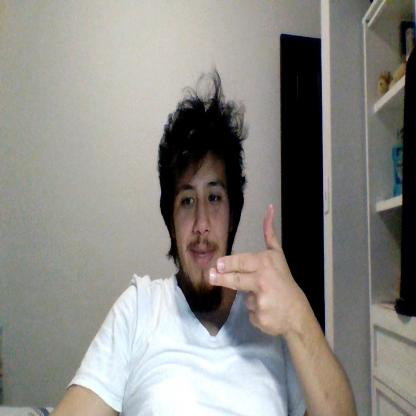H: (209, 204, 288, 334)
